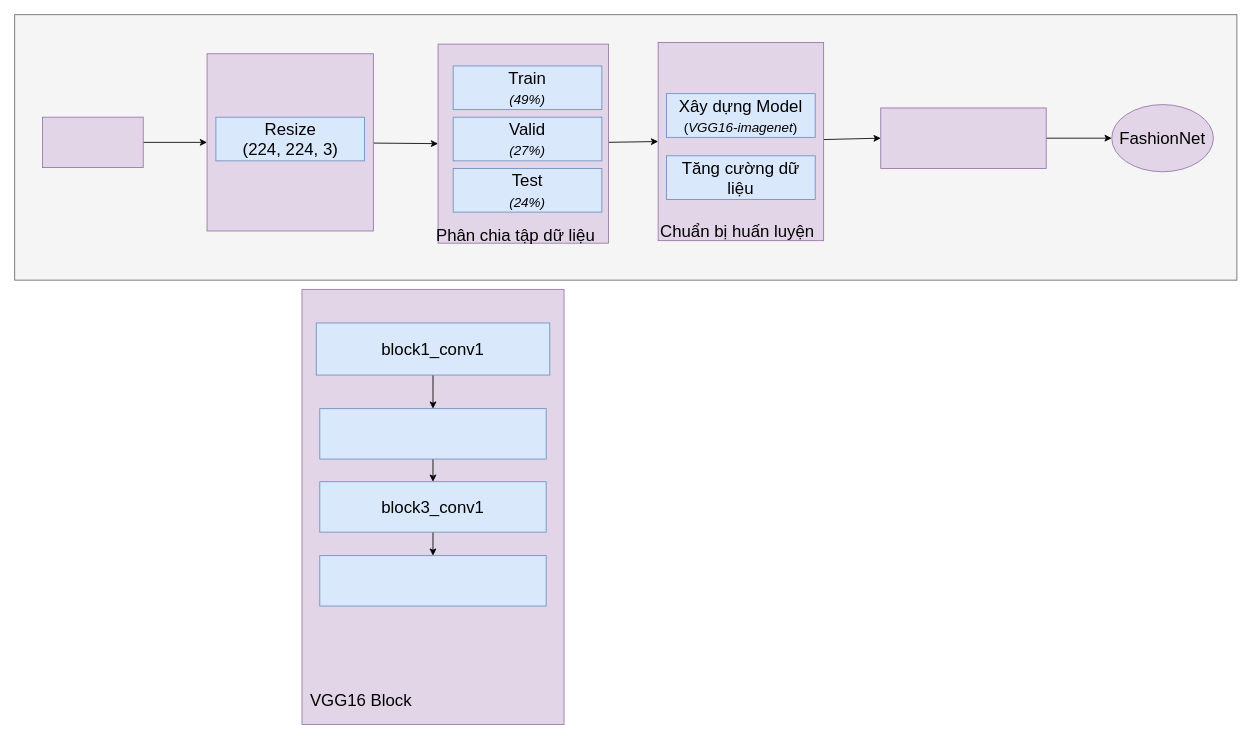
The diagram is 1252 pixels wide and 739 high, and some of its shapes have lost their labels. Here are the shapes that lost their labels. From the top down, the centre of each, then its label:
At (92,142): "Tập dữ liệu".
At (963,137): "Huấn luyện mô hình".
At (432,433): "block2_conv1".
At (432,580): "block4_conv1".
